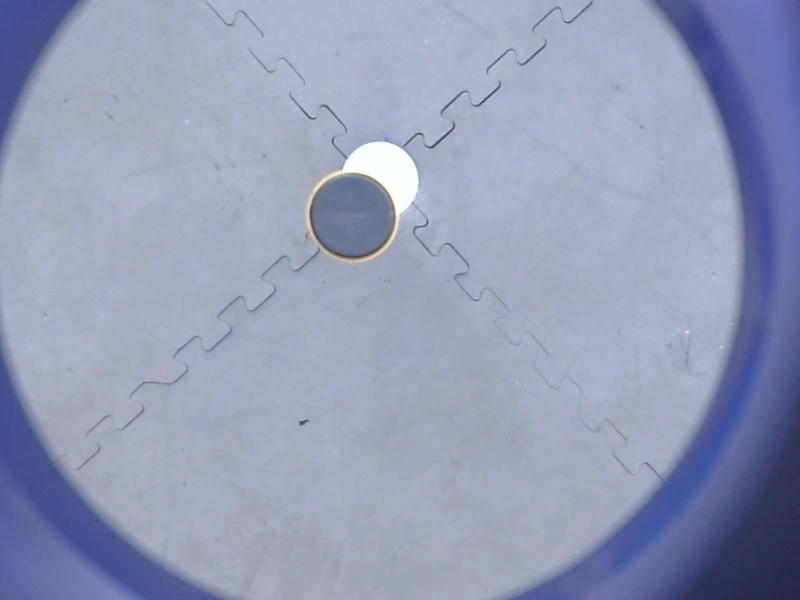tip: (302, 166, 402, 270)
